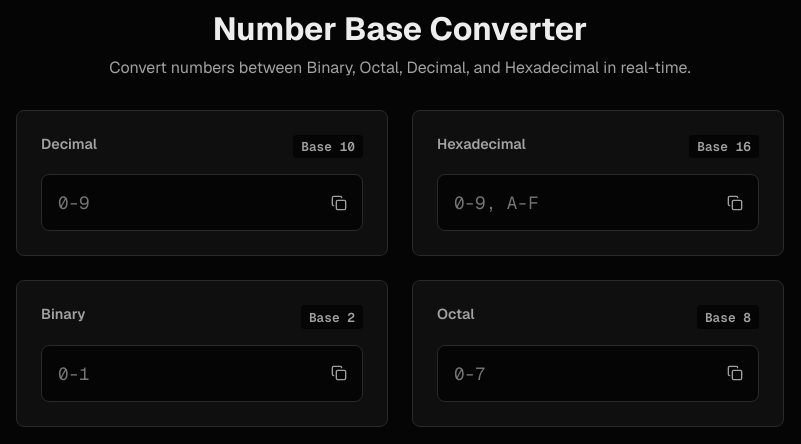
NumberBaseTool › converts Hex to other bases
Type "FF" into the field with placeholder "0-9, A-F" at (598, 203), box [437,174,759,231]
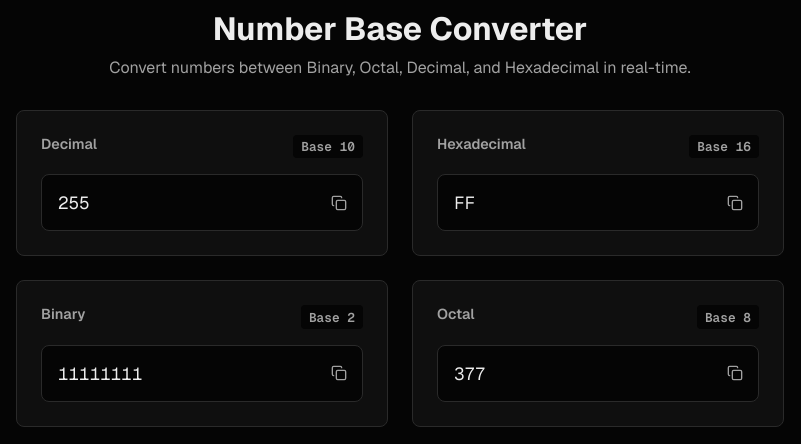
Now the field with placeholder "0-9" below "Base 10" holds "255", box [41,174,363,231]
Now the field with placeholder "0-1" below "Base 2" holds "11111111", box [41,345,363,402]
Now the field with placeholder "0-7" below "Base 8" holds "377", box [437,345,759,402]
